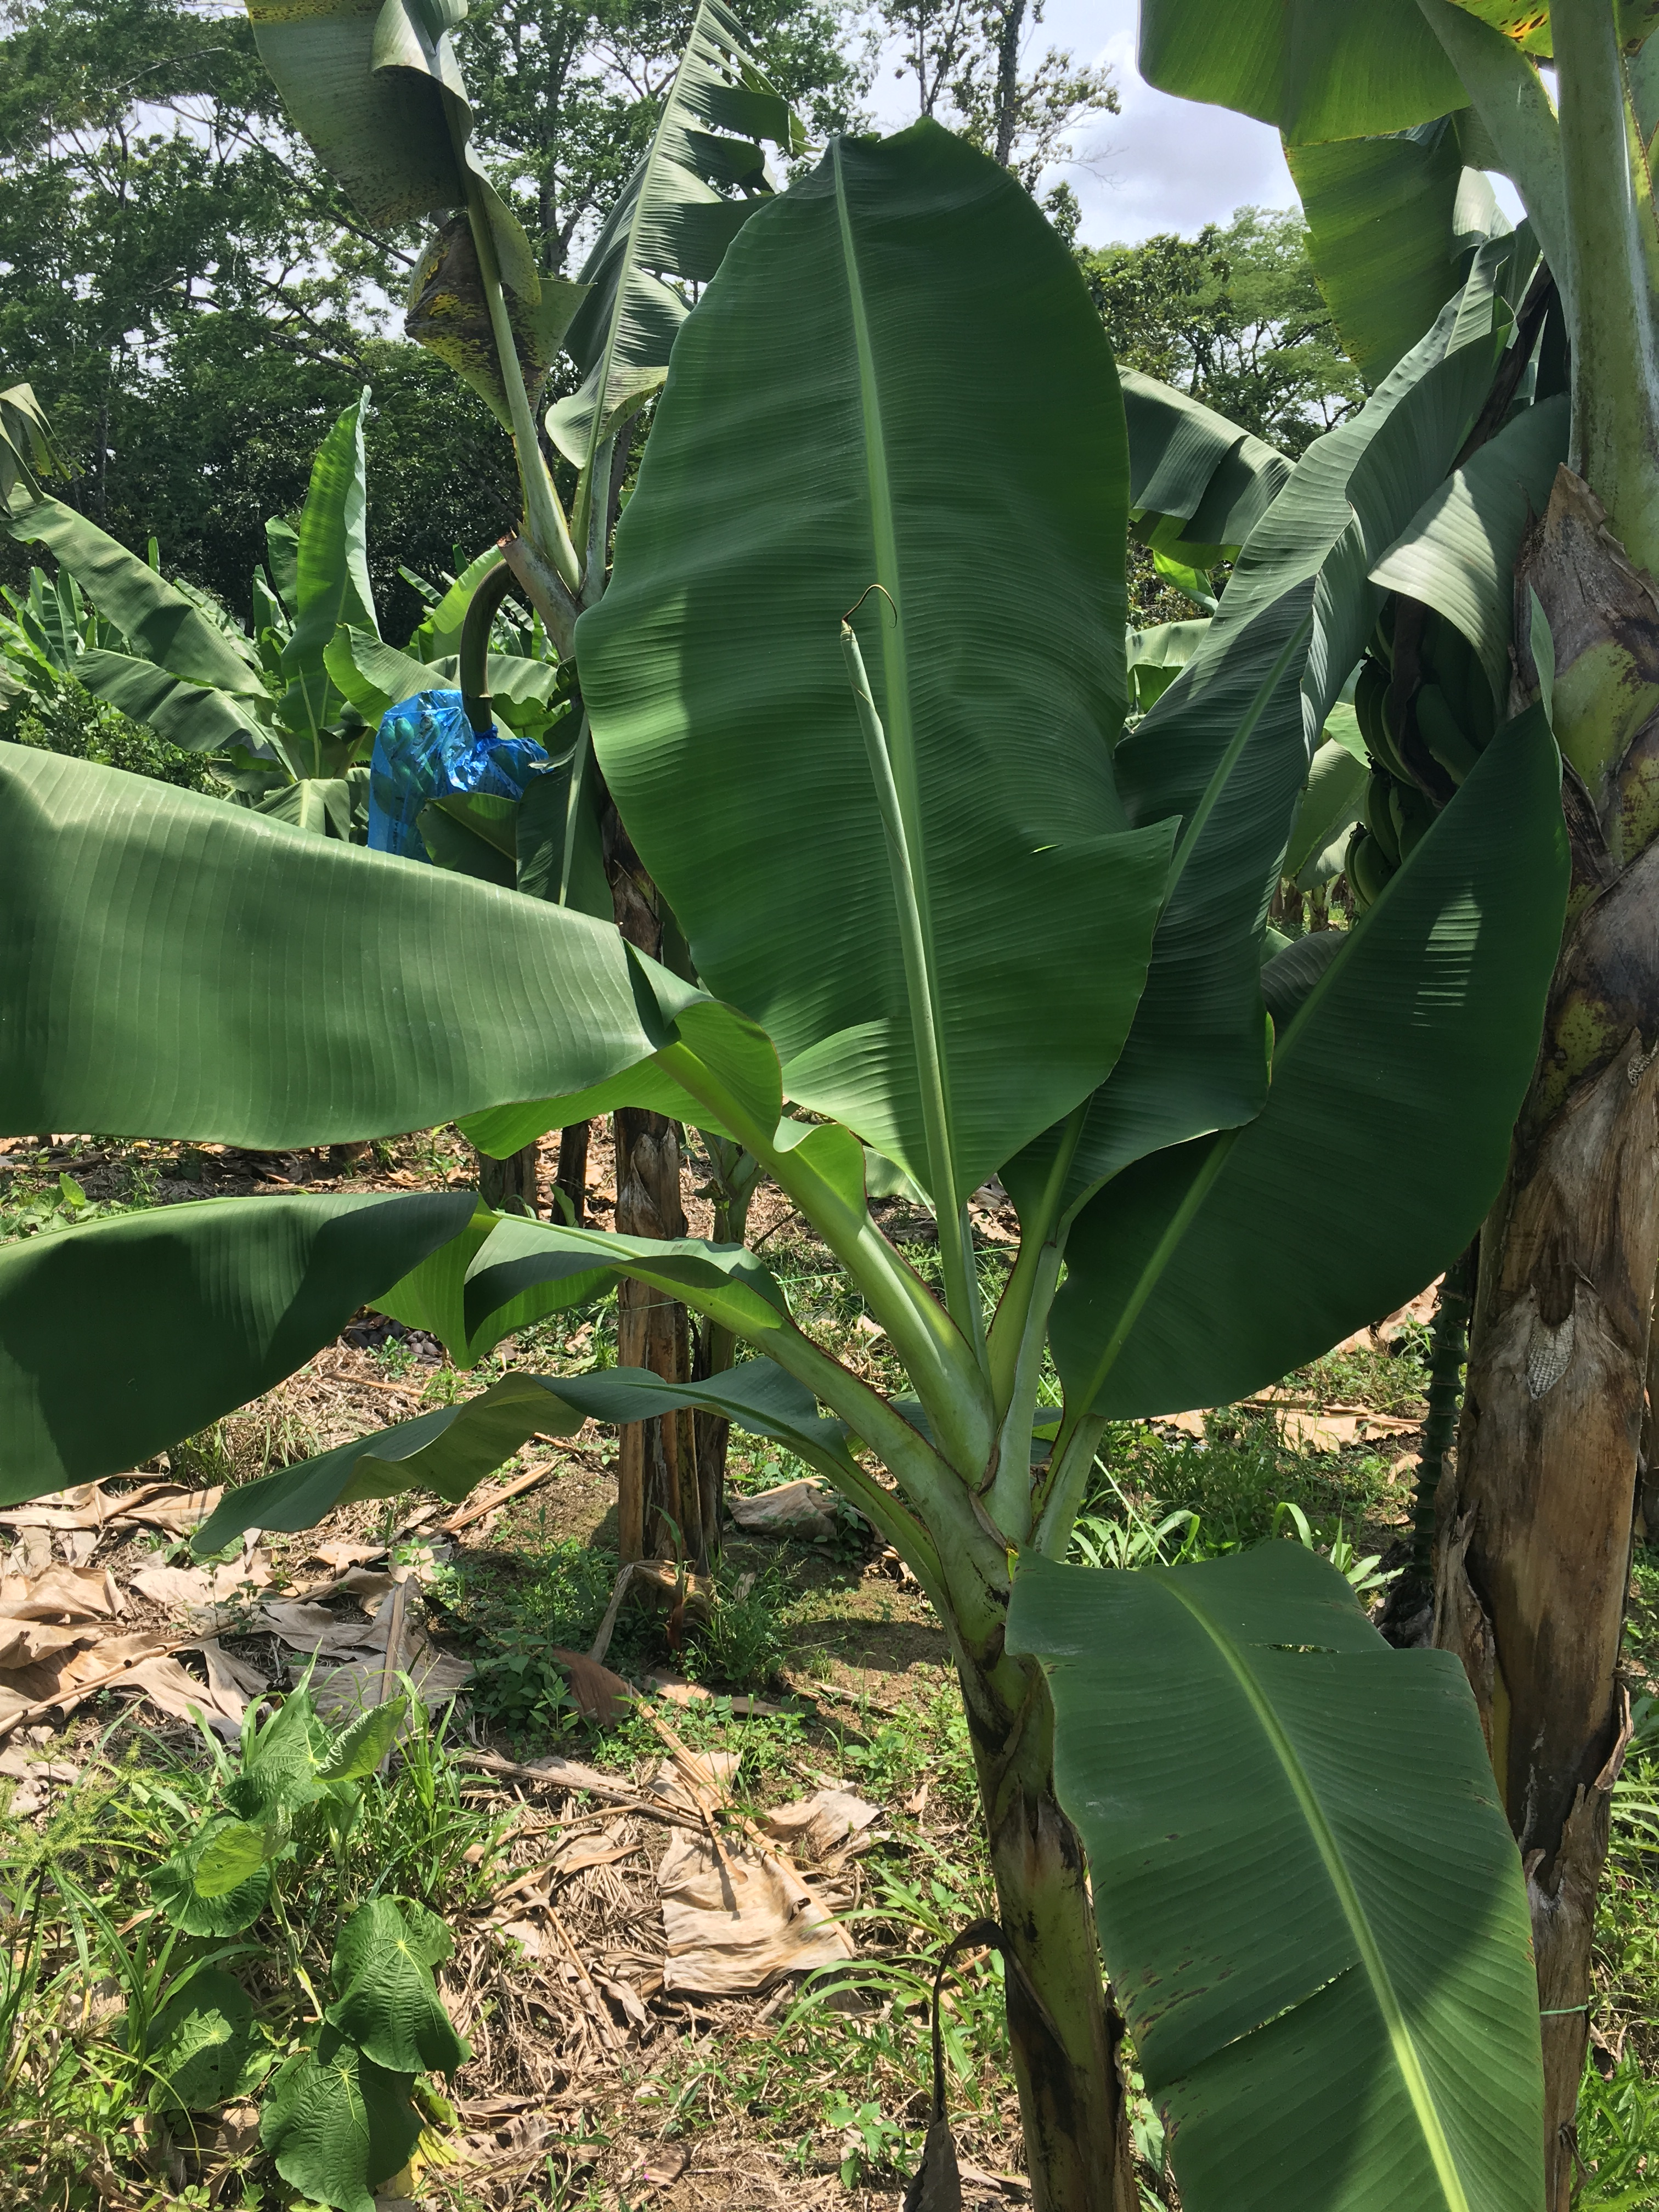candleleafs: (836, 583, 979, 1346)
